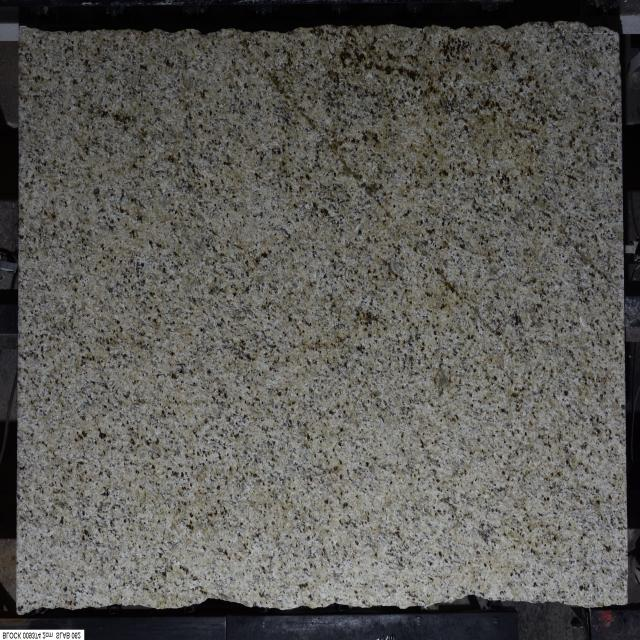chapa: (18, 23, 626, 612)
